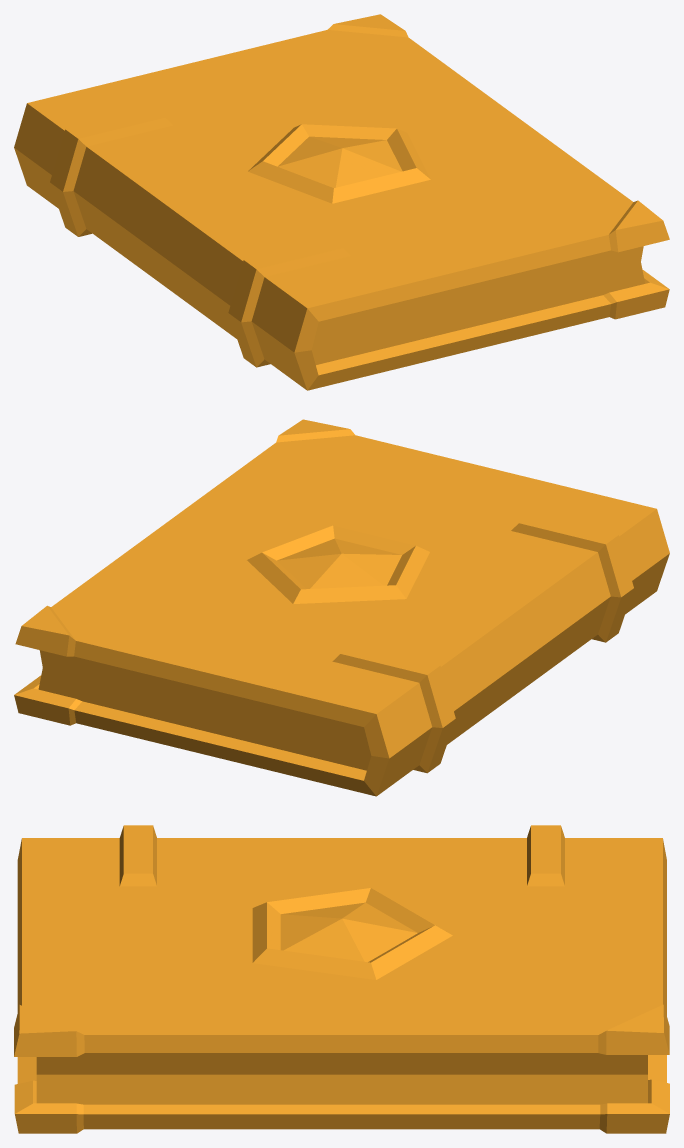
Rendered from SM_Book_Fantasy_A.fbx.
3 renders of one model, top to bottom at view 1: azimuth 30°, elevation 25°; view 2: azimuth 150°, elevation 25°; view 3: azimuth 270°, elevation 25°, orthographic. The views are drawn at different scales.
Parts seen in each view (by area): view 1: book-fantasy-a; view 2: book-fantasy-a; view 3: book-fantasy-a.
Boxes of the visible parts, x1,y1,x2,y2 form: book-fantasy-a: (14,14,669,390); book-fantasy-a: (14,419,669,796); book-fantasy-a: (14,825,669,1133).
Size of the model in its own units: 0.4134 by 0.1091 by 0.5394.
